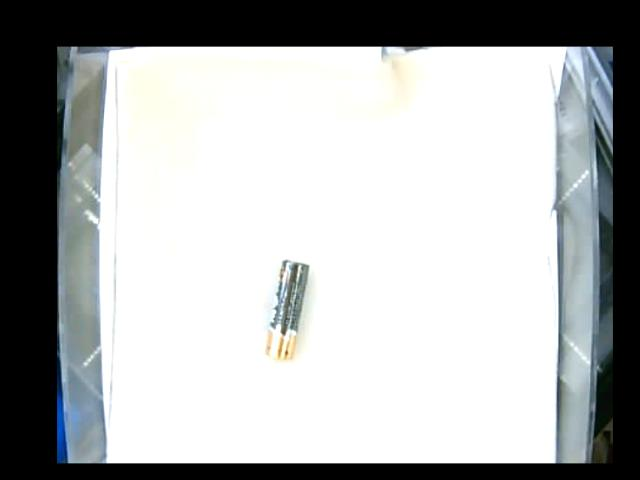Battery: (264, 261, 309, 358)
